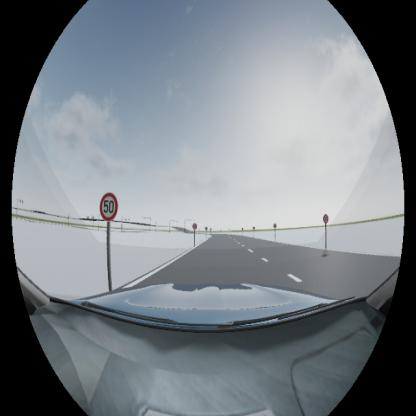Speed Limit 50: (100, 192, 118, 219)
